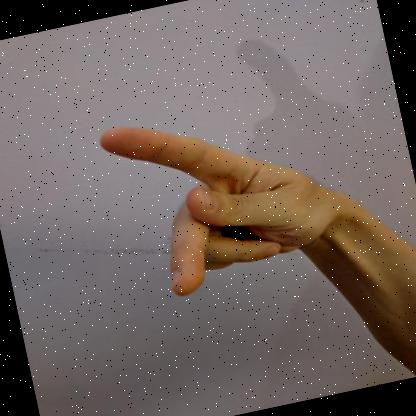P: (99, 127, 370, 295)
